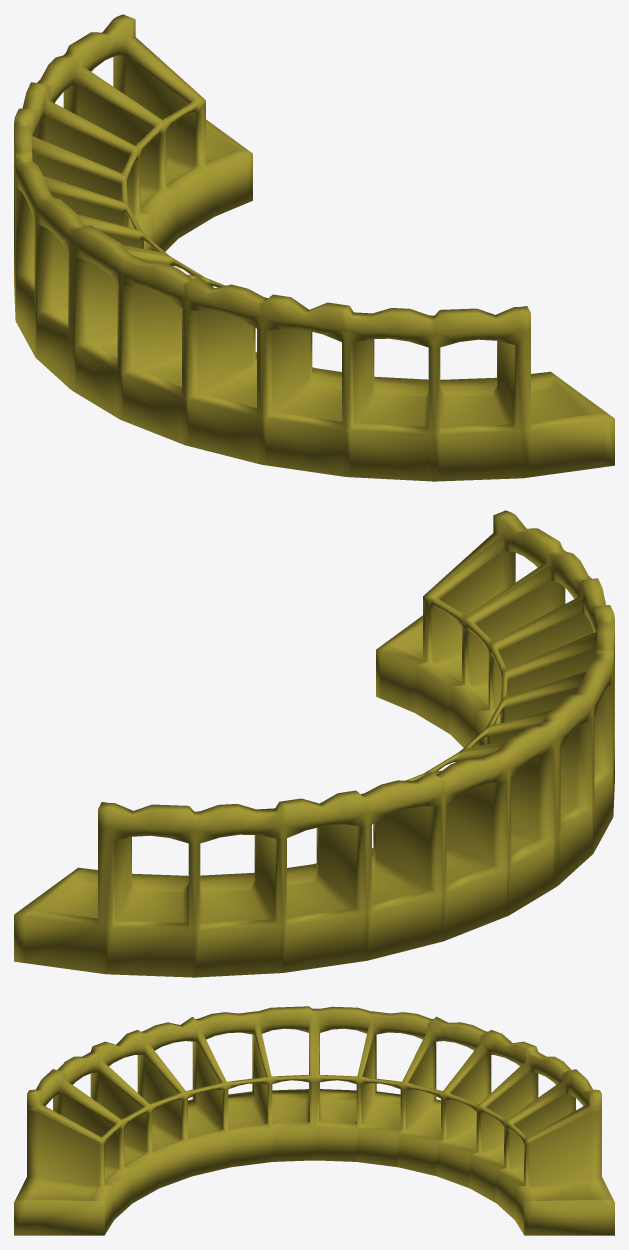
File: ArenaStands_UV.fbx
3 views of the same model, one above another, from view 1: azimuth 30°, elevation 25°; view 2: azimuth 150°, elevation 25°; view 3: azimuth 270°, elevation 25° (orthographic). The views are drawn at different scales.
Visible parts, largest first — view 1: Stands; view 2: Stands; view 3: Stands.
Part boxes in pixels (x1,y1,x2,y2): Stands: (14, 14, 614, 481); Stands: (14, 510, 614, 977); Stands: (14, 1006, 614, 1235).
Size of the model in its own units: 50.23 by 23.88 by 112.
